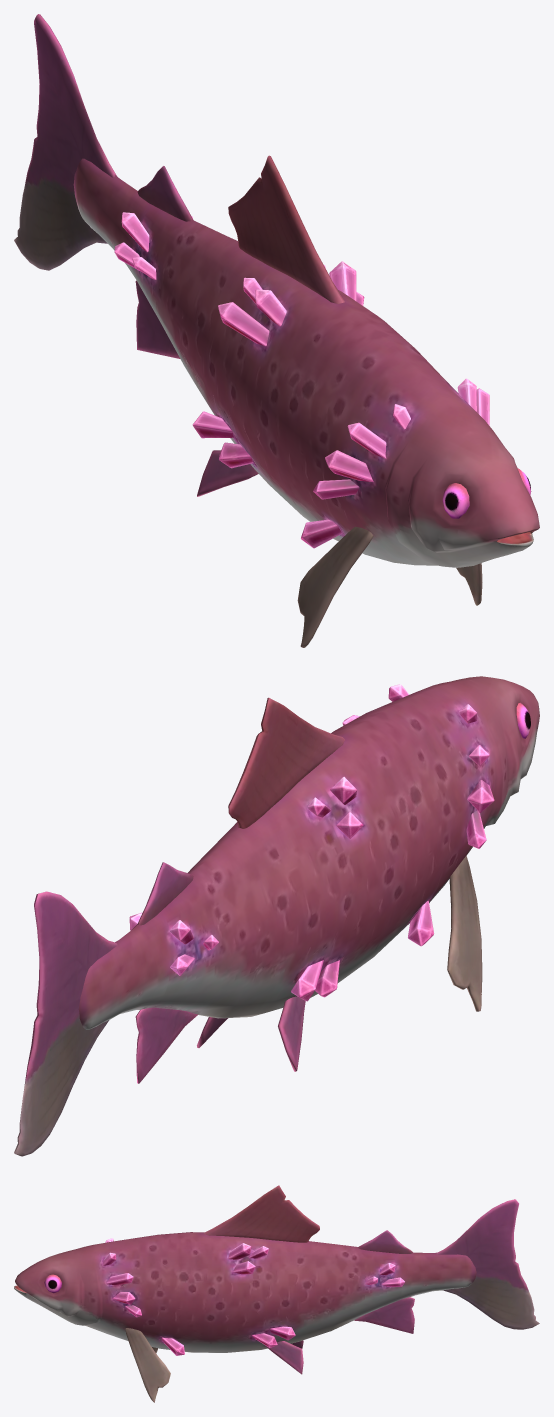
3 views of the same model, one above another, from view 1: azimuth 30°, elevation 25°; view 2: azimuth 150°, elevation 25°; view 3: azimuth 270°, elevation 25° (orthographic). The views are drawn at different scales.
Parts seen in each view (by area): view 1: SM_Fish_Unusual_Trout_01_LOD0; view 2: SM_Fish_Unusual_Trout_01_LOD0; view 3: SM_Fish_Unusual_Trout_01_LOD0.
Boxes of the visible parts, bbox=[...] form: SM_Fish_Unusual_Trout_01_LOD0: bbox=[14, 14, 539, 647]; SM_Fish_Unusual_Trout_01_LOD0: bbox=[14, 676, 539, 1156]; SM_Fish_Unusual_Trout_01_LOD0: bbox=[14, 1185, 539, 1402].
Size of the model in its own units: 0.1384 by 0.2807 by 0.6831.
Materials: 1 (1 with a texture image).
